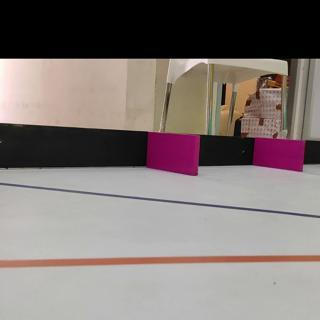xparking: (150, 135, 199, 174), (257, 138, 308, 169)
